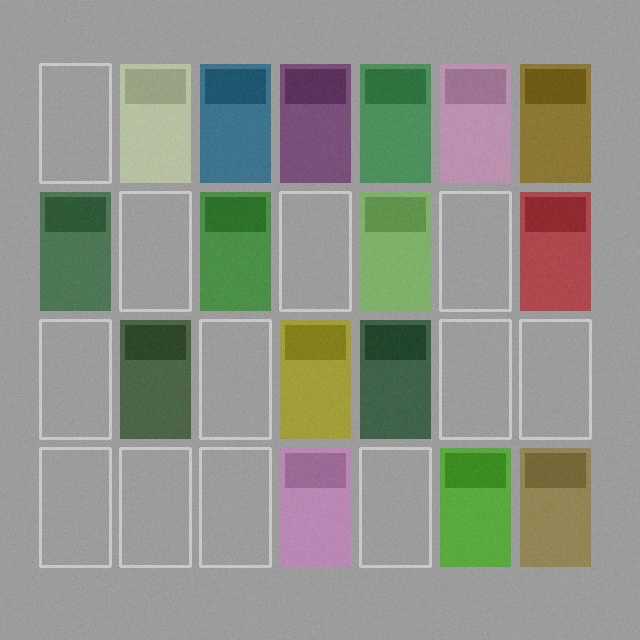space-empty: (40, 64, 110, 182), (120, 192, 190, 310), (280, 192, 350, 310), (440, 192, 510, 310), (40, 320, 110, 438), (200, 320, 270, 438), (440, 320, 510, 438), (520, 320, 590, 438), (40, 448, 110, 566), (120, 448, 190, 566), (200, 448, 270, 566), (360, 448, 430, 566)
space-occupied: (120, 64, 190, 182), (200, 64, 270, 182), (280, 64, 350, 182), (360, 64, 430, 182), (440, 64, 510, 182), (520, 64, 590, 182), (40, 192, 110, 310), (200, 192, 270, 310), (360, 192, 430, 310), (520, 192, 590, 310), (120, 320, 190, 438), (280, 320, 350, 438), (360, 320, 430, 438), (280, 448, 350, 566), (440, 448, 510, 566), (520, 448, 590, 566)
